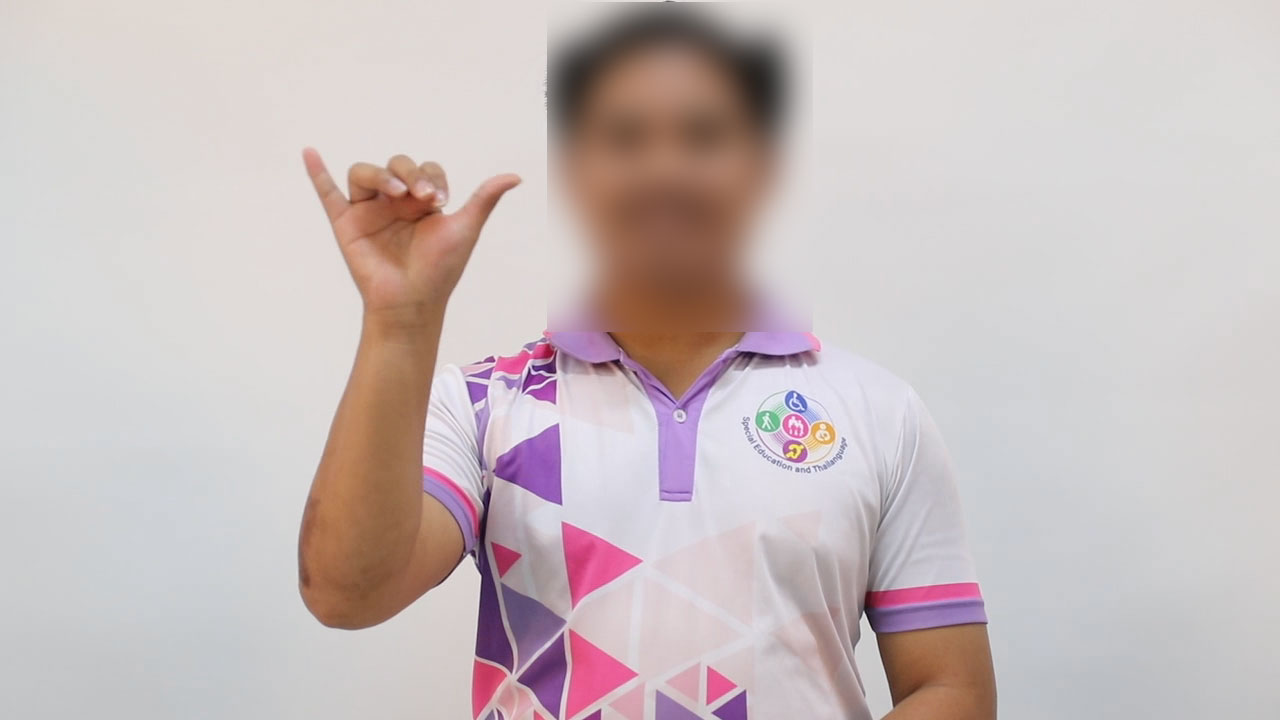yor: (289, 139, 530, 337)
